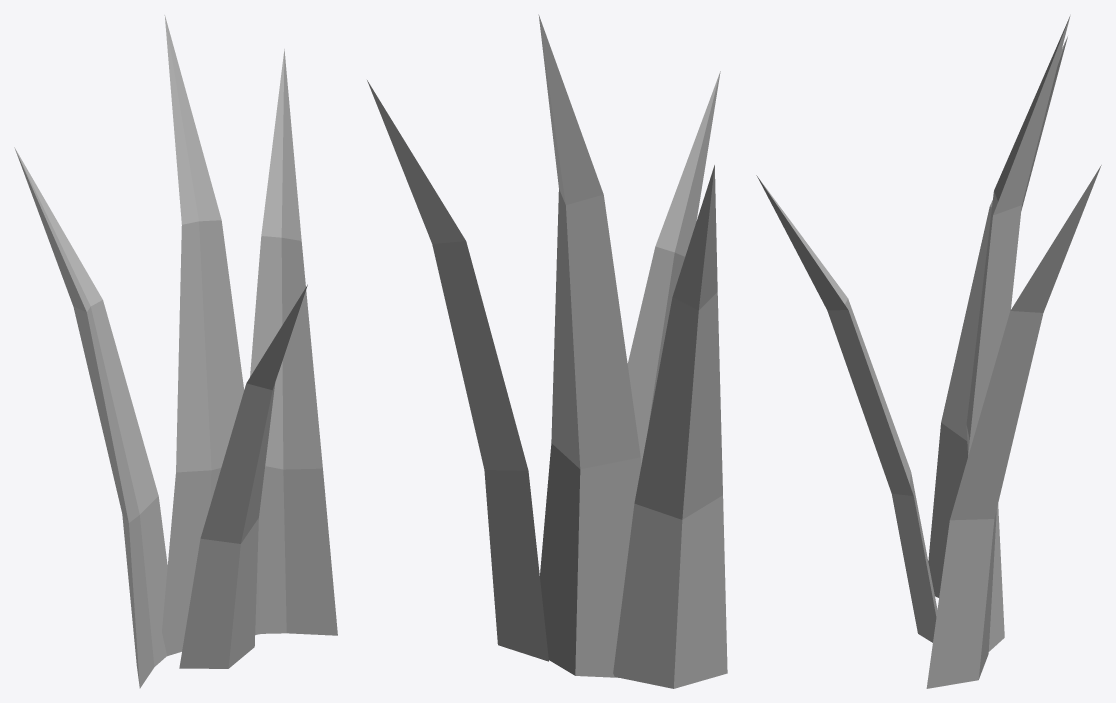
Rendered from Grass_01.fbx.
3 views of the same model, side by side, from view 1: azimuth 30°, elevation 25°; view 2: azimuth 150°, elevation 25°; view 3: azimuth 270°, elevation 25° (orthographic). The views are drawn at different scales.
Parts seen in each view (by area): view 1: Grass_01; view 2: Grass_01; view 3: Grass_01.
Boxes of the visible parts, <box> form: Grass_01: <box>14,15,337,688</box>; Grass_01: <box>367,14,727,688</box>; Grass_01: <box>756,15,1101,688</box>.
Bounding box in the file's own units: 0.1819 × 0.3648 × 0.1824.
